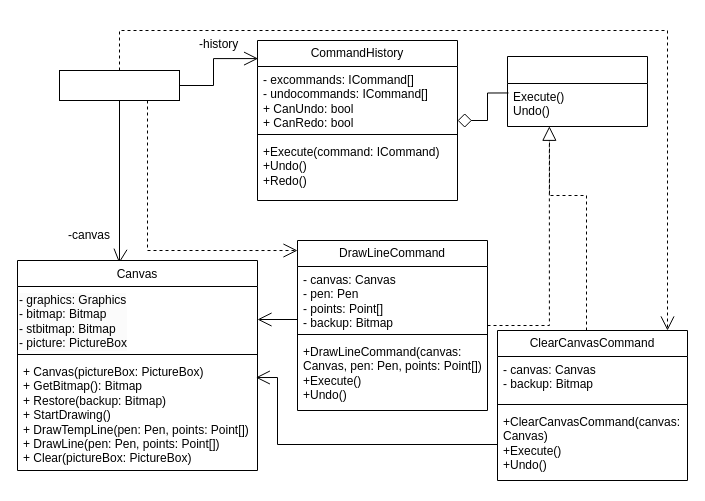
Image size: 705x501. Some labels were removed from this diagram. The shapes that lost their labels are listed below. From the top down, each one's box as (x1, y1, x2, y2) in pixels, then its label:
(58, 70, 180, 100): Form1
(506, 56, 648, 126): «interface» ICommand
